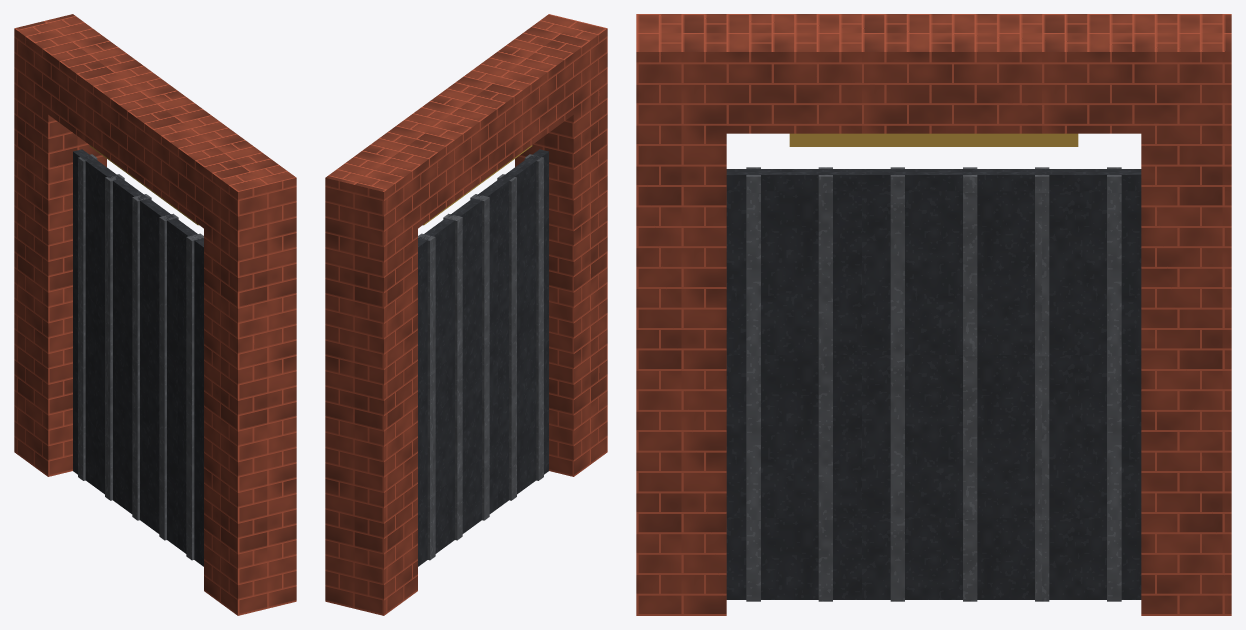
Rendered from brama_fabryczna.glb.
3 views of the same model, side by side, from view 1: azimuth 30°, elevation 25°; view 2: azimuth 150°, elevation 25°; view 3: azimuth 270°, elevation 25° (orthographic). The views are drawn at different scales.
Parts seen in each view (by area): view 1: brama_fabryczna; view 2: brama_fabryczna; view 3: brama_fabryczna.
Part boxes in pixels (left/top/right/bottom): brama_fabryczna: left=14, top=14, right=296, bottom=615; brama_fabryczna: left=325, top=14, right=607, bottom=615; brama_fabryczna: left=636, top=14, right=1231, bottom=615.
Bounding box in the file's own units: 0.5 × 3.45 × 3.3.
Materials: 4 (3 with a texture image).
